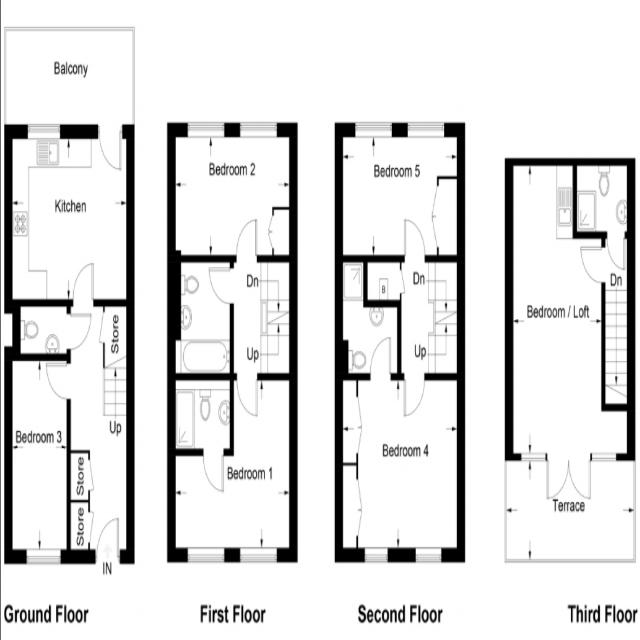DOOR: (94, 517, 121, 564), (97, 124, 123, 172), (579, 245, 606, 285), (235, 217, 259, 262), (208, 265, 234, 306), (72, 261, 95, 307), (45, 361, 71, 401), (66, 311, 92, 351), (369, 335, 392, 380), (403, 373, 426, 418), (403, 218, 426, 263), (235, 373, 258, 418), (202, 448, 225, 493), (606, 231, 626, 272)
DOUBLE DOOR: (545, 452, 593, 501)
ROOM: (504, 157, 636, 501), (334, 335, 465, 564), (167, 373, 298, 563), (4, 123, 135, 313), (334, 121, 466, 264), (167, 121, 298, 263), (4, 354, 71, 564)
WINDOW: (239, 121, 277, 139), (354, 121, 393, 138), (406, 121, 445, 138), (239, 547, 277, 564), (187, 547, 225, 564), (187, 121, 225, 138), (26, 547, 61, 565), (27, 123, 61, 140), (415, 547, 442, 563), (364, 546, 388, 563), (520, 452, 546, 462), (591, 452, 616, 462)
